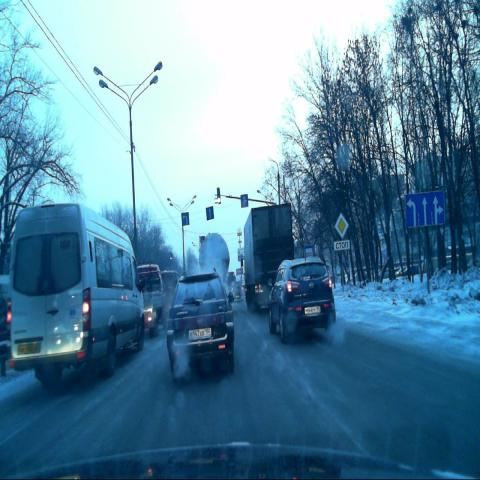2_1: (334, 212, 348, 238)
